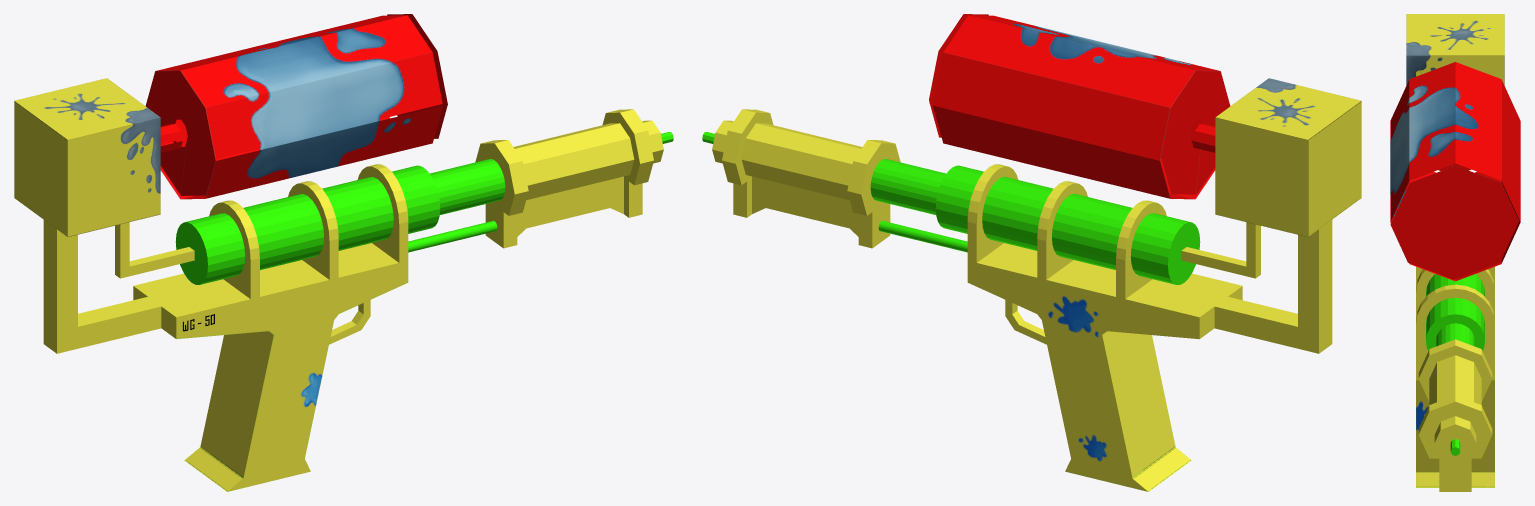
The model's file is Watergun.FBX.
3 renders of one model, left to right at view 1: azimuth 30°, elevation 25°; view 2: azimuth 150°, elevation 25°; view 3: azimuth 270°, elevation 25°, orthographic. The views are drawn at different scales.
Visible parts, largest first — view 1: Depósito, Estructura, Empuñadura, Cubo depósito, Cilindro; view 2: Depósito, Estructura, Empuñadura, Cubo depósito, Cilindro; view 3: Depósito, Estructura, Cubo depósito, Cilindro, Empuñadura.
Part boxes in pixels (x1=…): Depósito: x1=145, y1=14, x2=447, y2=199; Estructura: x1=43, y1=109, x2=663, y2=353; Empuñadura: x1=176, y1=222, x2=408, y2=491; Cubo depósito: x1=14, y1=78, x2=160, y2=236; Cilindro: x1=175, y1=132, x2=673, y2=284; Depósito: x1=929, y1=14, x2=1230, y2=199; Estructura: x1=712, y1=109, x2=1332, y2=353; Empuñadura: x1=967, y1=222, x2=1199, y2=491; Cubo depósito: x1=1215, y1=78, x2=1361, y2=236; Cilindro: x1=702, y1=132, x2=1200, y2=284; Depósito: x1=1390, y1=62, x2=1520, y2=281; Estructura: x1=1416, y1=266, x2=1494, y2=491; Cubo depósito: x1=1406, y1=14, x2=1504, y2=85; Cilindro: x1=1426, y1=274, x2=1484, y2=455; Empuñadura: x1=1416, y1=380, x2=1494, y2=487.
Size of the model in its own units: 0.0136 by 0.00847 by 0.00265.
Materials: 6 (4 with a texture image).
